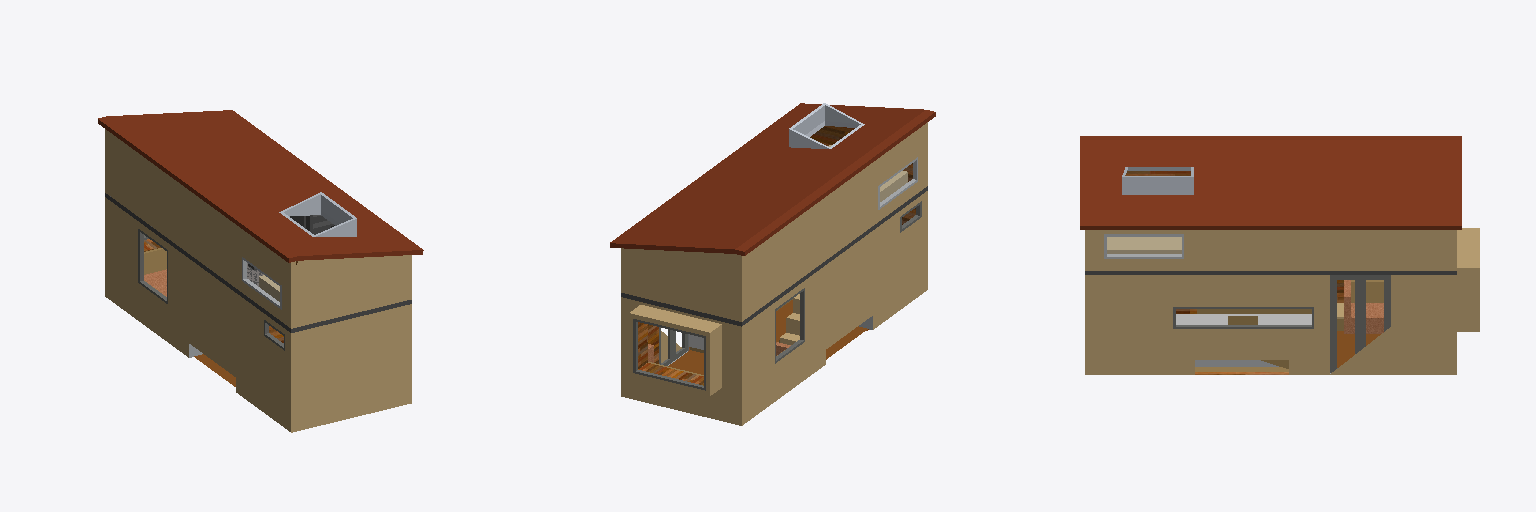
3 renders of one model, left to right at view 1: azimuth 30°, elevation 25°; view 2: azimuth 150°, elevation 25°; view 3: azimuth 270°, elevation 25°, orthographic.
Visible parts, largest first — view 1: Mesh15 Wall Main_Wall Walls Level_1 Model, Mesh2 Level_3 Model, Mesh28 Wall1 Level2_1 Model, Mesh1 Group1 Level_3 Model, Mesh29 Floor Level2_1 Model, Mesh25 InfrontFrame WindowFrame Level_1 Model; view 2: Mesh15 Wall Main_Wall Walls Level_1 Model, Mesh2 Level_3 Model, Mesh28 Wall1 Level2_1 Model, Mesh1 Group1 Level_3 Model, Mesh29 Floor Level2_1 Model, Mesh26 MainFrame WindowFrame Level_1 Model, Mesh25 InfrontFrame WindowFrame Level_1 Model; view 3: Mesh2 Level_3 Model, Mesh15 Wall Main_Wall Walls Level_1 Model, Mesh28 Wall1 Level2_1 Model, Mesh17 Group7 Kitchen Appliances Level_1 Model, Mesh12 Group5 Doors Level_1 Model, Mesh29 Floor Level2_1 Model, Mesh1 Group1 Level_3 Model, Mesh30 Bed Bedroom Level2_1 Model, Mesh22 Group14 Wooden_Couch Living_Room Appliances Level_1 Model, Mesh27 KitchenFrame WindowFrame Level_1 Model, Mesh34 LeftFrame Level_2_Frames Level2_1 Model, Mesh3 Closet Stairs Level_1 Model.
Boxes of the visible parts, x1=… form: Mesh15 Wall Main_Wall Walls Level_1 Model: x1=105, y1=197, x2=411, y2=432; Mesh2 Level_3 Model: x1=98, y1=110, x2=423, y2=277; Mesh28 Wall1 Level2_1 Model: x1=105, y1=142, x2=411, y2=328; Mesh1 Group1 Level_3 Model: x1=279, y1=192, x2=356, y2=236; Mesh29 Floor Level2_1 Model: x1=105, y1=193, x2=411, y2=332; Mesh25 InfrontFrame WindowFrame Level_1 Model: x1=138, y1=229, x2=167, y2=303; Mesh15 Wall Main_Wall Walls Level_1 Model: x1=621, y1=191, x2=927, y2=425; Mesh2 Level_3 Model: x1=610, y1=103, x2=935, y2=270; Mesh28 Wall1 Level2_1 Model: x1=621, y1=126, x2=927, y2=321; Mesh1 Group1 Level_3 Model: x1=789, y1=103, x2=864, y2=148; Mesh29 Floor Level2_1 Model: x1=621, y1=186, x2=927, y2=326; Mesh26 MainFrame WindowFrame Level_1 Model: x1=633, y1=319, x2=705, y2=390; Mesh25 InfrontFrame WindowFrame Level_1 Model: x1=775, y1=288, x2=804, y2=363; Mesh2 Level_3 Model: x1=1080, y1=136, x2=1461, y2=229; Mesh15 Wall Main_Wall Walls Level_1 Model: x1=1085, y1=228, x2=1479, y2=374; Mesh28 Wall1 Level2_1 Model: x1=1085, y1=171, x2=1456, y2=270; Mesh17 Group7 Kitchen Appliances Level_1 Model: x1=1176, y1=314, x2=1311, y2=371; Mesh12 Group5 Doors Level_1 Model: x1=1330, y1=275, x2=1390, y2=372; Mesh29 Floor Level2_1 Model: x1=1085, y1=271, x2=1456, y2=274; Mesh1 Group1 Level_3 Model: x1=1122, y1=167, x2=1193, y2=194; Mesh30 Bed Bedroom Level2_1 Model: x1=1107, y1=237, x2=1181, y2=253; Mesh22 Group14 Wooden_Couch Living_Room Appliances Level_1 Model: x1=1344, y1=280, x2=1383, y2=333; Mesh27 KitchenFrame WindowFrame Level_1 Model: x1=1173, y1=307, x2=1313, y2=328; Mesh34 LeftFrame Level_2_Frames Level2_1 Model: x1=1104, y1=234, x2=1183, y2=258; Mesh3 Closet Stairs Level_1 Model: x1=1197, y1=309, x2=1343, y2=330.
Size of the model in its own units: 3.14 by 4 by 8.07.
Materials: 23 (2 with a texture image).